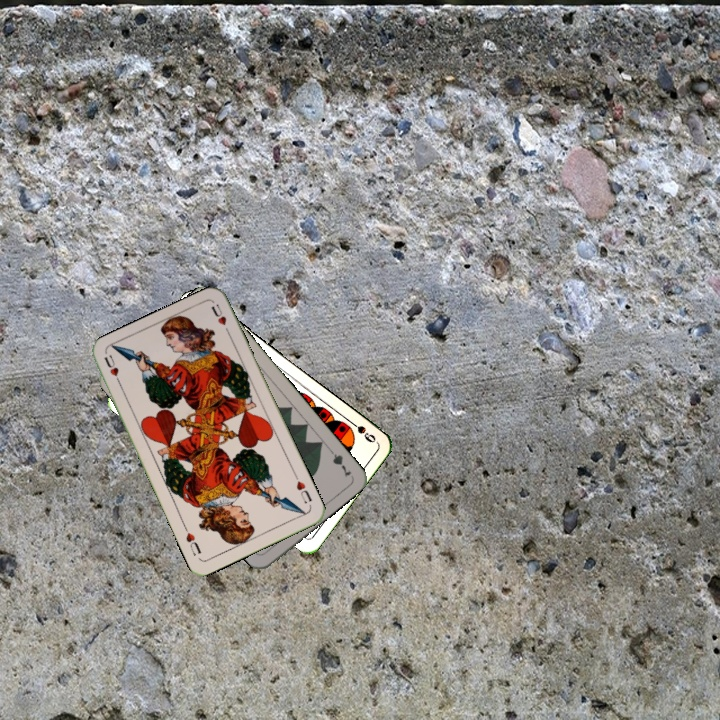G7: (324, 444, 354, 480)
HU: (100, 351, 125, 389), (292, 477, 315, 506)
S9: (344, 415, 378, 445)
